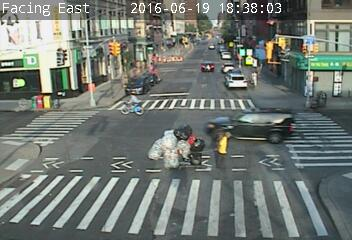neg: (157, 122, 196, 173), (121, 89, 142, 117), (279, 53, 292, 69), (203, 59, 214, 74)
pos: (212, 131, 238, 166)
